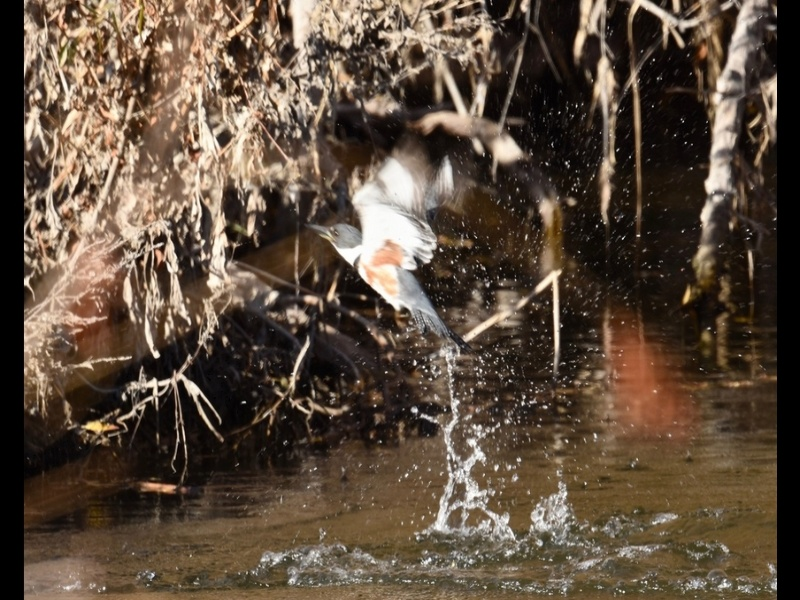kingfisher: (310, 136, 460, 354)
